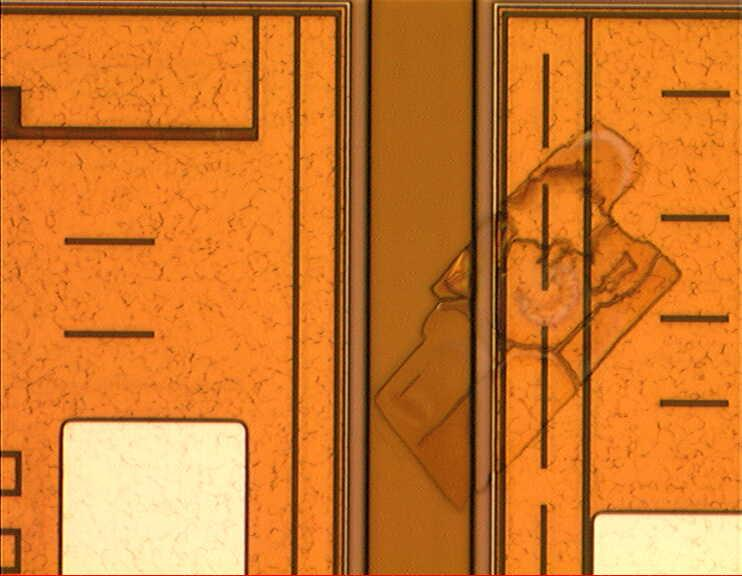PIQ PARTICLE: (376, 118, 684, 514)
